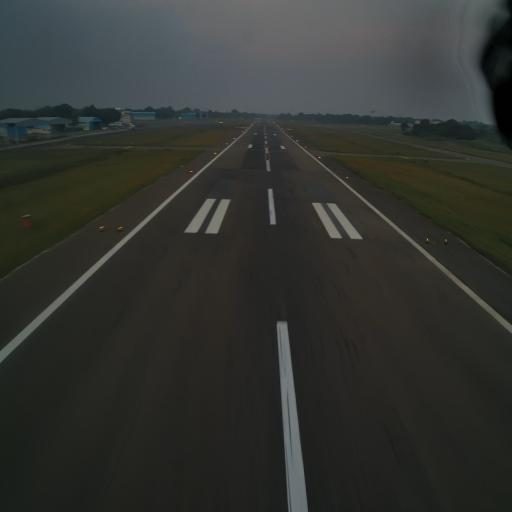on: (98, 222, 105, 232), (117, 225, 123, 234), (344, 174, 350, 182), (425, 236, 429, 244), (444, 235, 448, 243), (189, 168, 193, 176)
